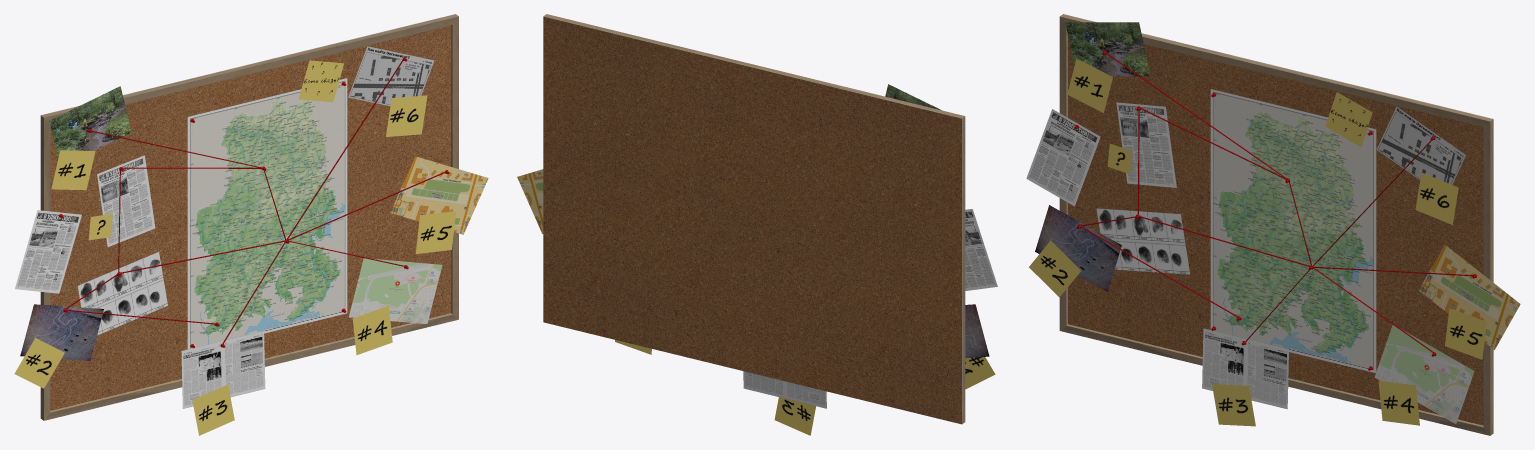
Rendered from DetectiveBoard.fbx.
3 renders of one model, left to right at view 1: azimuth 30°, elevation 25°; view 2: azimuth 150°, elevation 25°; view 3: azimuth 330°, elevation 25°, orthographic. The views are drawn at different scales.
Parts seen in each view (by area): view 1: Cube, map, Plane.015, Plane.014, Plane.016, Plane.011, Plane.009, Plane.008, Plane.010, Plane.012, Plane.013, Vert (+8 smaller); view 2: Cube, Plane.009, Plane.014, Plane, Plane.013, Plane.016, Plane.002; view 3: Cube, map, Plane.015, Plane.014, Plane.011, Plane.016, Plane.009, Plane.008, Plane.010, Plane.012, Plane.013, Vert (+8 smaller).
Boxes of the visible parts, <box> form: Cube: <box>40,14,458,420</box>; map: <box>187,78,347,349</box>; Plane.015: <box>349,258,442,323</box>; Plane.014: <box>181,331,265,408</box>; Plane.016: <box>390,156,488,234</box>; Plane.011: <box>77,252,167,335</box>; Plane.009: <box>15,210,81,293</box>; Plane.008: <box>97,155,155,246</box>; Plane.010: <box>49,86,131,157</box>; Plane.012: <box>348,46,434,105</box>; Plane.013: <box>20,304,103,360</box>; Vert: <box>66,60,444,343</box>; Cube: <box>543,14,965,424</box>; Plane.009: <box>965,209,997,290</box>; Plane.014: <box>743,371,826,408</box>; Plane: <box>774,397,815,435</box>; Plane.013: <box>965,304,989,358</box>; Plane.016: <box>517,169,543,233</box>; Plane.002: <box>965,357,995,389</box>; Cube: <box>1059,14,1493,435</box>; map: <box>1210,89,1376,372</box>; Plane.015: <box>1374,325,1474,423</box>; Plane.014: <box>1202,328,1288,409</box>; Plane.011: <box>1096,208,1189,274</box>; Plane.016: <box>1418,244,1520,349</box>; Plane.009: <box>1026,109,1100,206</box>; Plane.008: <box>1116,102,1176,187</box>; Plane.010: <box>1065,22,1150,76</box>; Plane.012: <box>1376,106,1465,184</box>; Plane.013: <box>1035,205,1121,291</box>; Vert: <box>1081,53,1473,352</box>.
Size of the model in its own units: 246 by 182 by 5.49.
